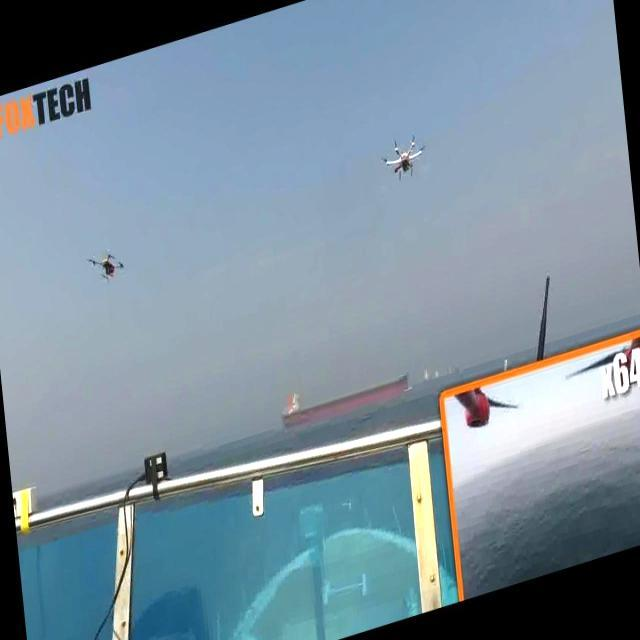drone: (379, 121, 427, 187), (84, 242, 128, 296)
